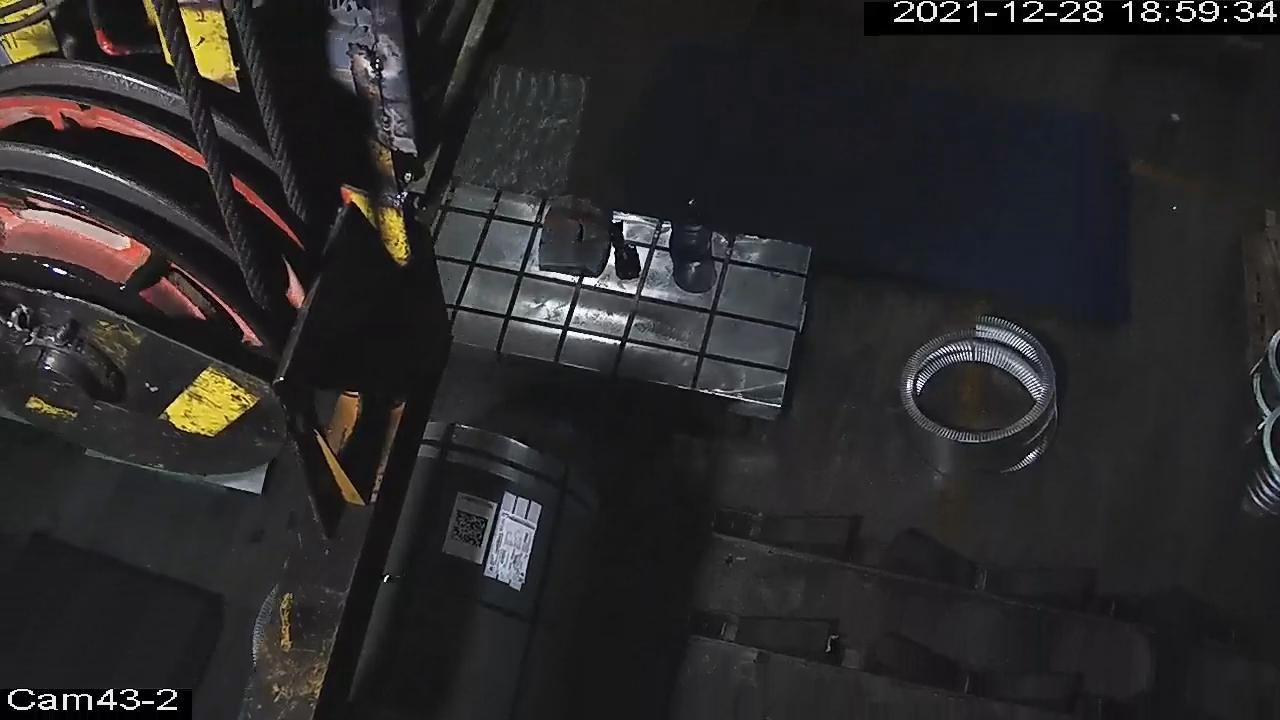data matrix: (447, 506, 493, 551)
